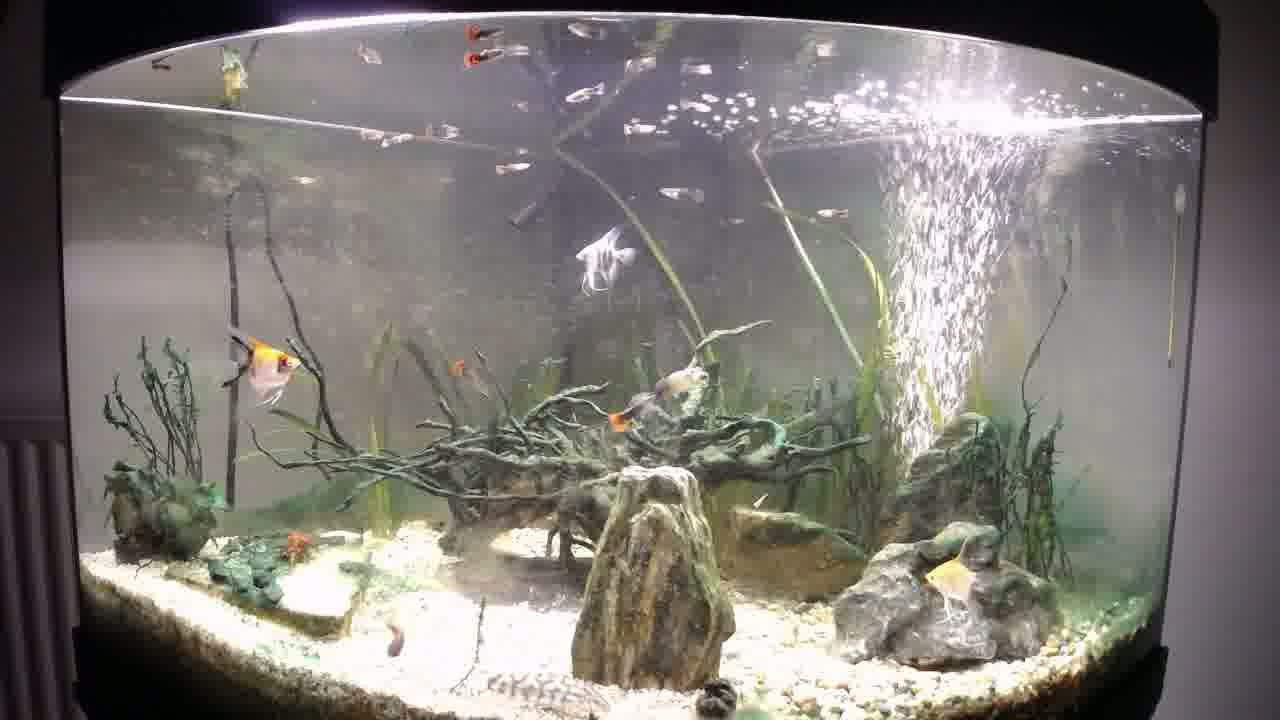Ancistrus: (274, 524, 323, 571)
Botia_Almorhae: (468, 664, 622, 718)
Corydoras_Panda: (376, 611, 412, 663)
G_Matriarche: (647, 364, 711, 408)
Pterophyllum_Scalare_BB: (570, 220, 639, 298)
Pterophyllum_Scalare_Y: (924, 533, 989, 623)
Pterophyllum_Scalare_YWB: (218, 323, 301, 413)
